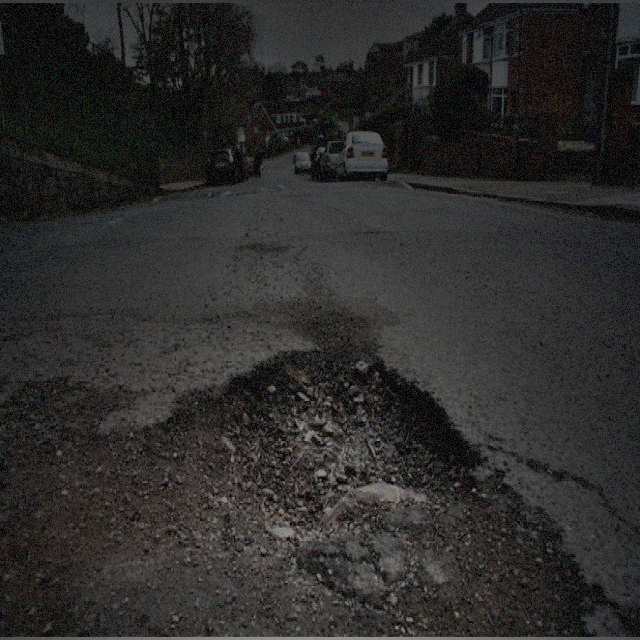pothole: (165, 332, 480, 525)
